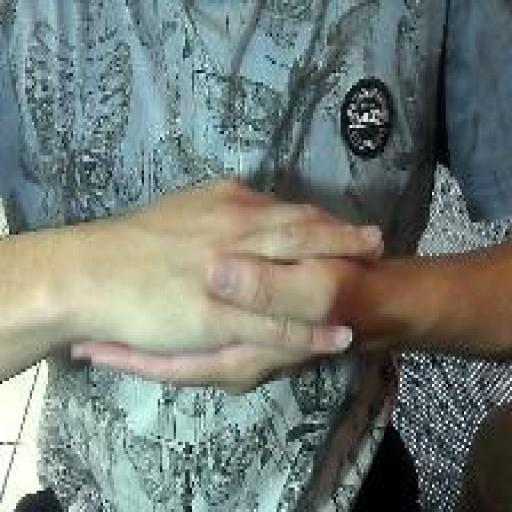Saru -monkey-: (65, 172, 388, 404)
